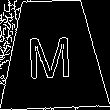M_N: (29, 28, 77, 81)
